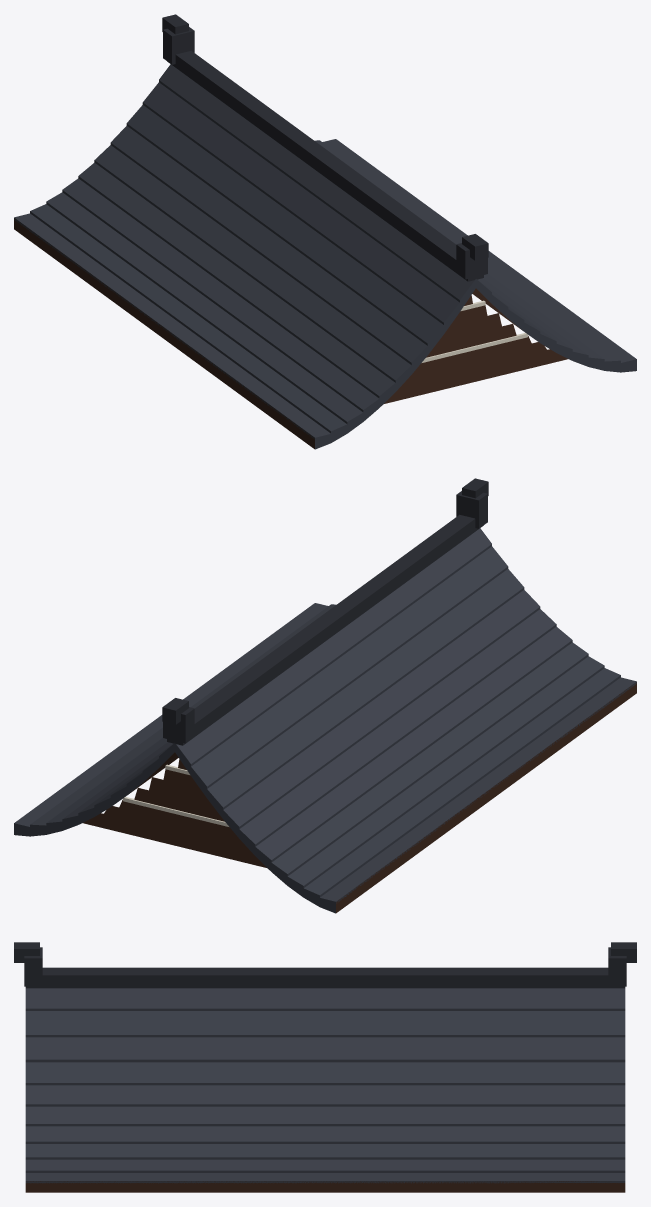
Rendered from jap-telhado-2x4.gltf.
3 views of the same model, one above another, from view 1: azimuth 30°, elevation 25°; view 2: azimuth 150°, elevation 25°; view 3: azimuth 270°, elevation 25° (orthographic).
Visible parts, largest first — view 1: jap-telhado-2x4; view 2: jap-telhado-2x4; view 3: jap-telhado-2x4.
Part boxes in pixels (<box>): jap-telhado-2x4: <box>14,14,636,449</box>; jap-telhado-2x4: <box>14,478,636,913</box>; jap-telhado-2x4: <box>14,942,636,1192</box>.
Size of the model in its own units: 2.84 by 1.43 by 4.78.
